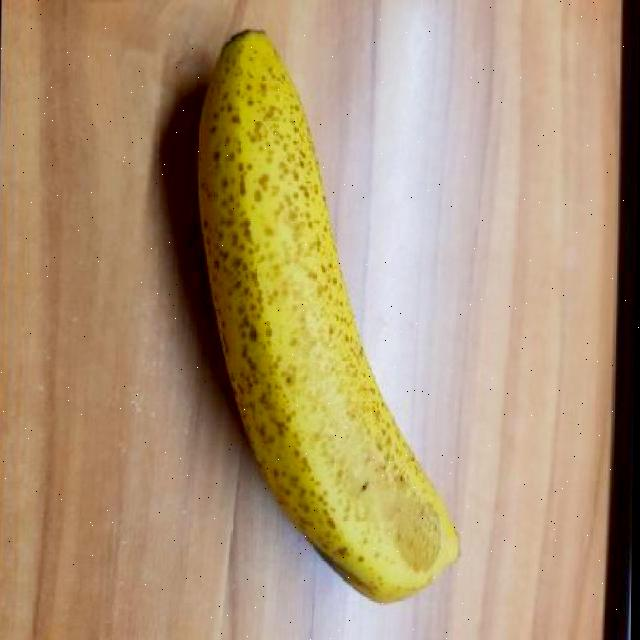banana: (184, 23, 473, 614)
